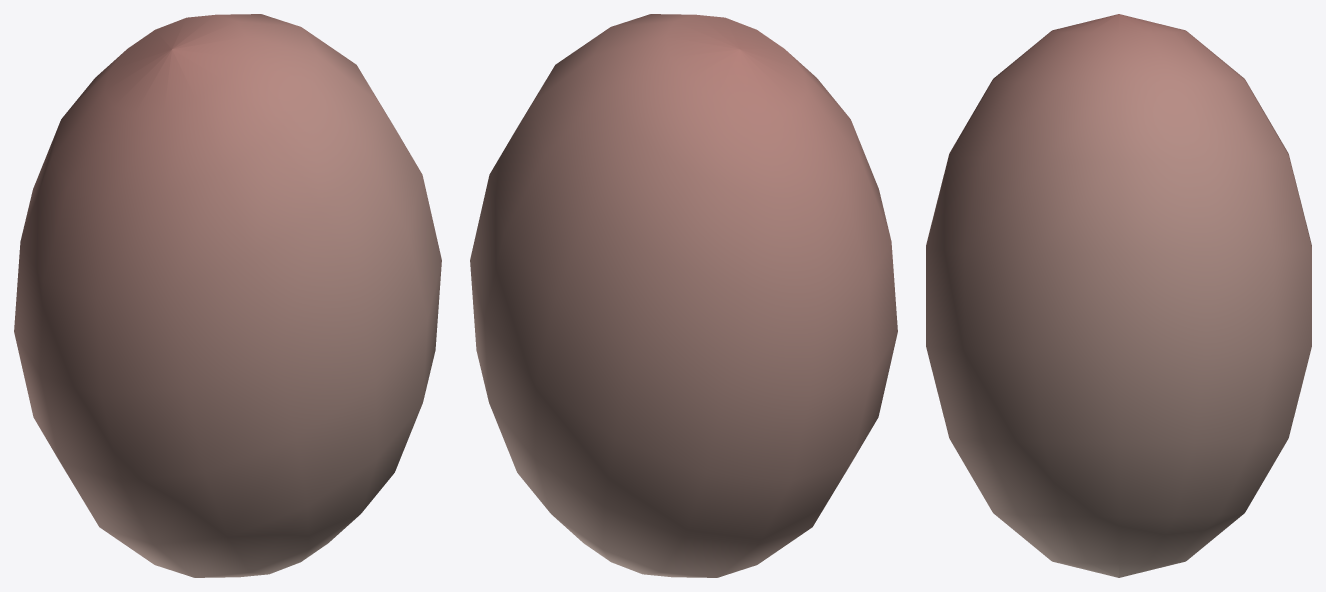
The model's file is fruit-mango-chilled.gltf.
3 views of the same model, side by side, from view 1: azimuth 30°, elevation 25°; view 2: azimuth 150°, elevation 25°; view 3: azimuth 270°, elevation 25° (orthographic).
Size of the model in its own units: 0.381 by 0.5274 by 0.3456.
